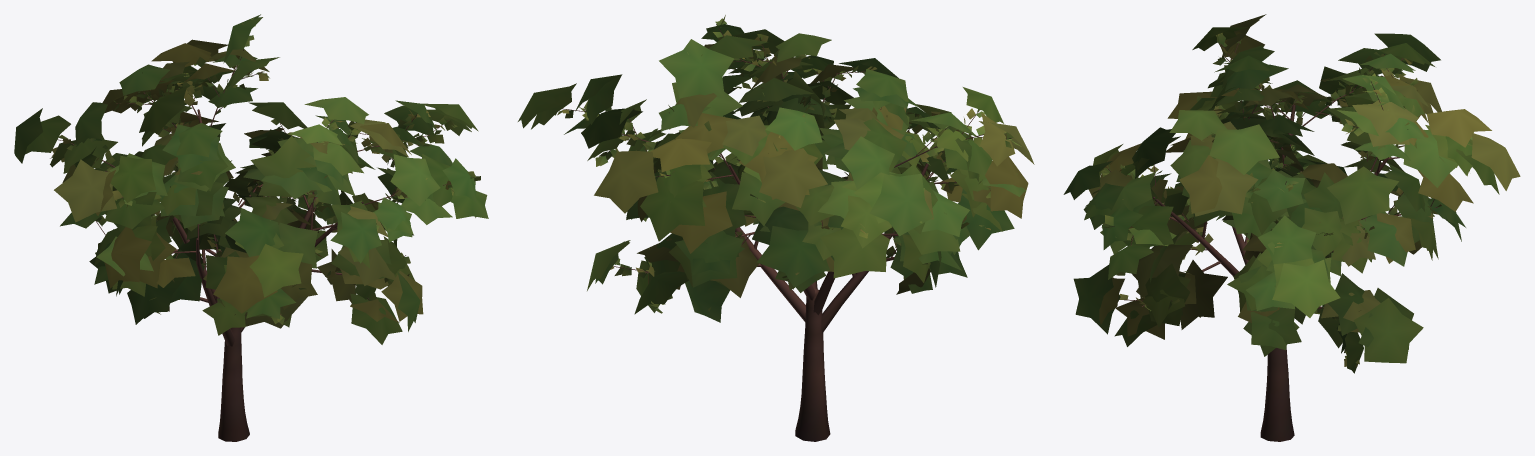
File: cherry-a.lod0.glb
3 views of the same model, side by side, from view 1: azimuth 30°, elevation 25°; view 2: azimuth 150°, elevation 25°; view 3: azimuth 270°, elevation 25° (orthographic). The views are drawn at different scales.
Size of the model in its own units: 6.83 by 5.51 by 5.74.
